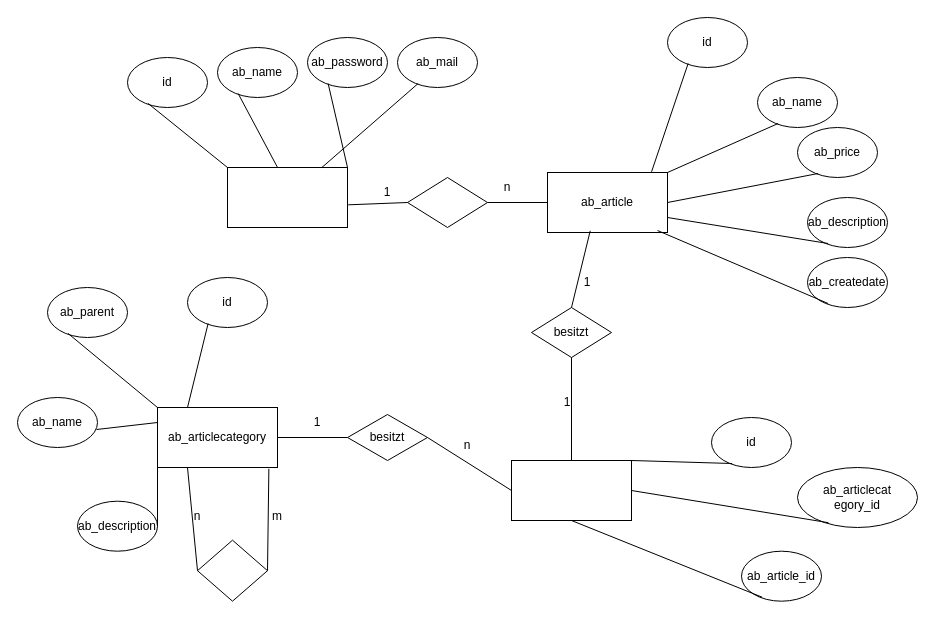
The diagram is 935 pixels wide and 619 high, and some of its shapes have lost their labels. Each missing label, with the centre of its shape:
ab_article_has_ articlecategory: [571,490]
ab_user: [287,197]
erstellt: [447,202]
verweist auf sich selbst: [232,570]
